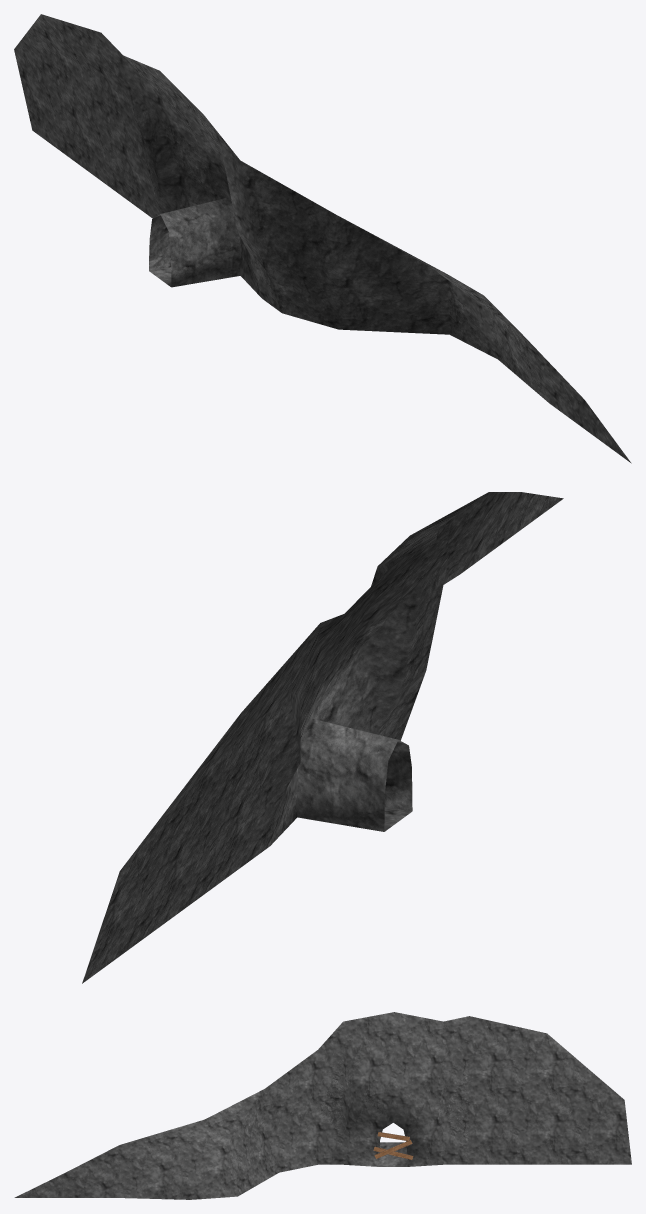
The model's file is BackgroundCave.fbx.
3 views of the same model, one above another, from view 1: azimuth 30°, elevation 25°; view 2: azimuth 150°, elevation 25°; view 3: azimuth 270°, elevation 25° (orthographic). The views are drawn at different scales.
Visible parts, largest first — view 1: Cave; view 2: Cave; view 3: Cave, Planks.
Part boxes in pixels (x1=…): Cave: x1=14, y1=14, x2=631, y2=463; Cave: x1=82, y1=492, x2=563, y2=983; Cave: x1=14, y1=1012, x2=631, y2=1199; Planks: x1=373, y1=1132, x2=413, y2=1159.
Size of the model in its own units: 1021 by 1177 by 4922.
